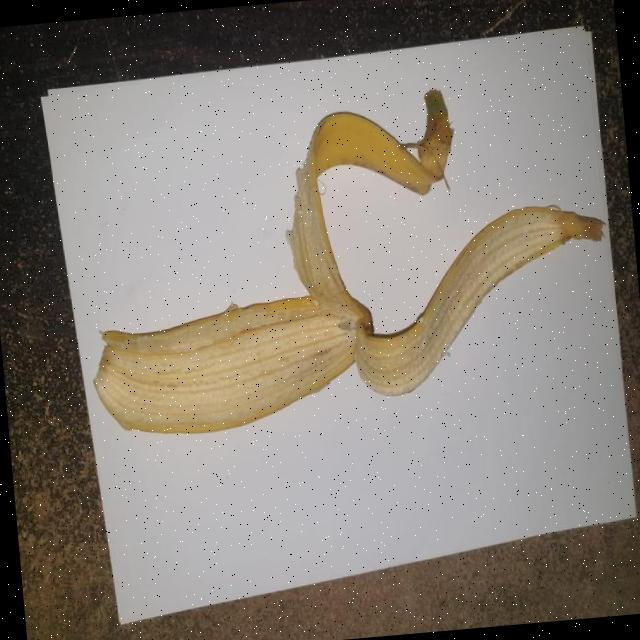banana-peel: (69, 74, 618, 442)
